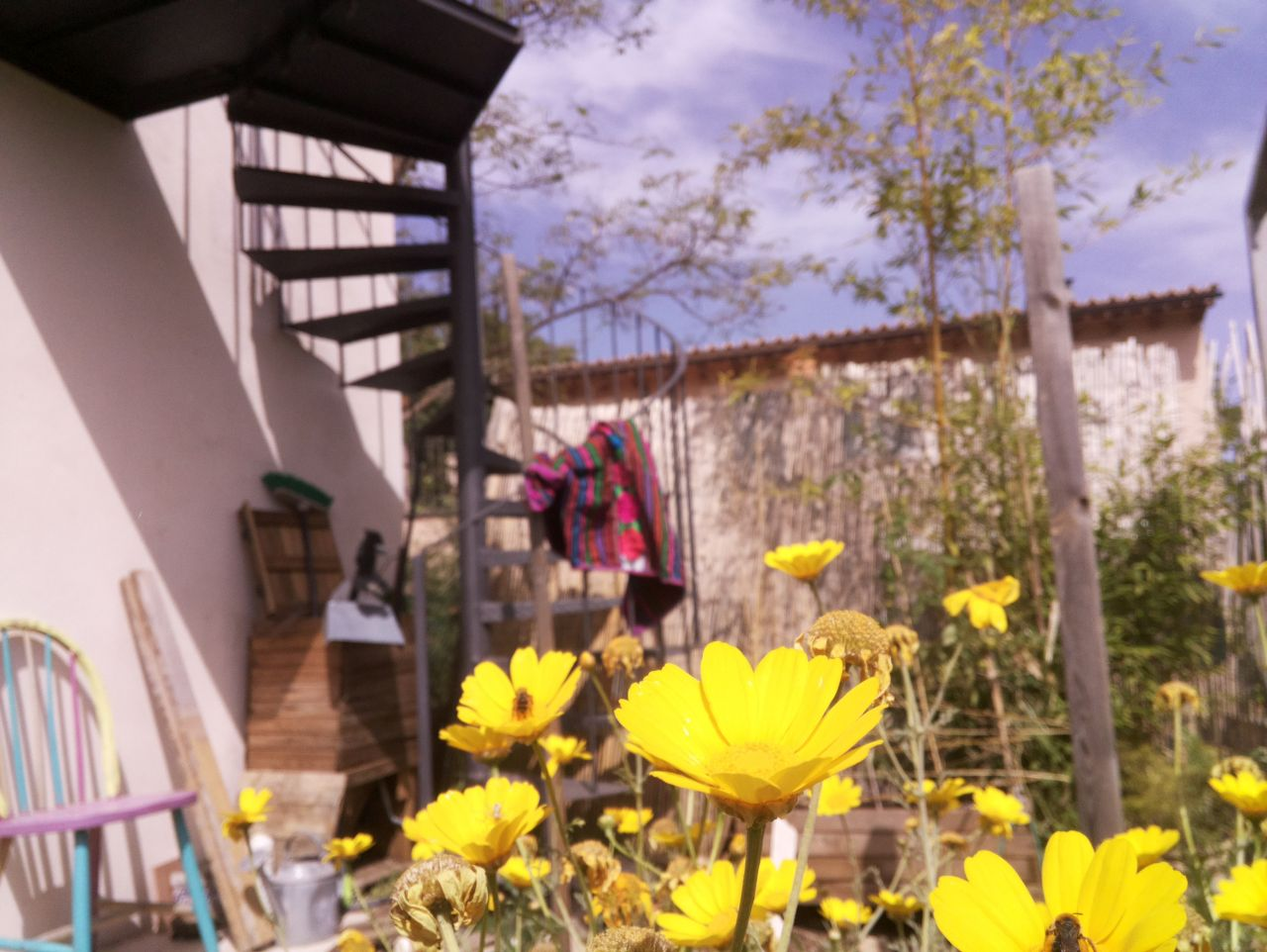Unidentified insect: (504, 683, 544, 724)
